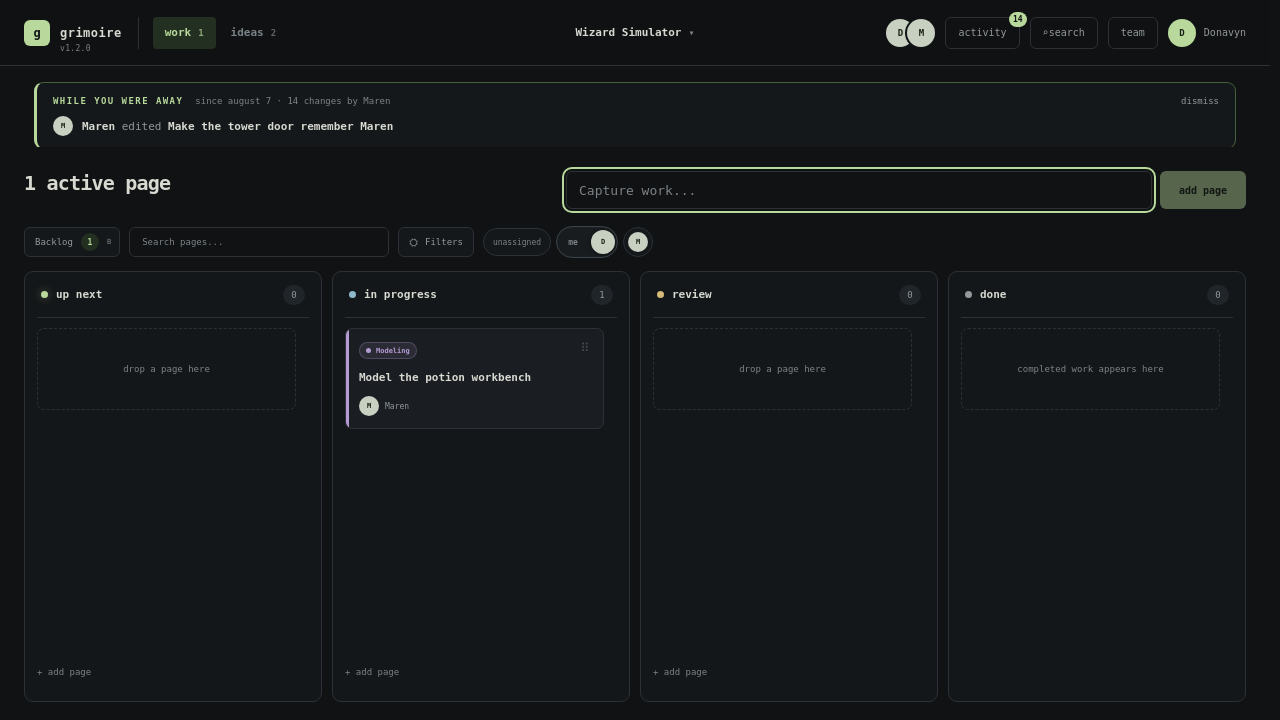
it: while you were away - quiet signals › shows the owner how much happened and clears the badge once the history is opened
The width and height of the screenshot is (1280, 720).
Expected: the picture named "14 changes since your last visit" reads "14", left=1013, top=14, right=1023, bottom=24
Click the button "activity 14".
click(982, 32)  # box left=945, top=16, right=1020, bottom=48
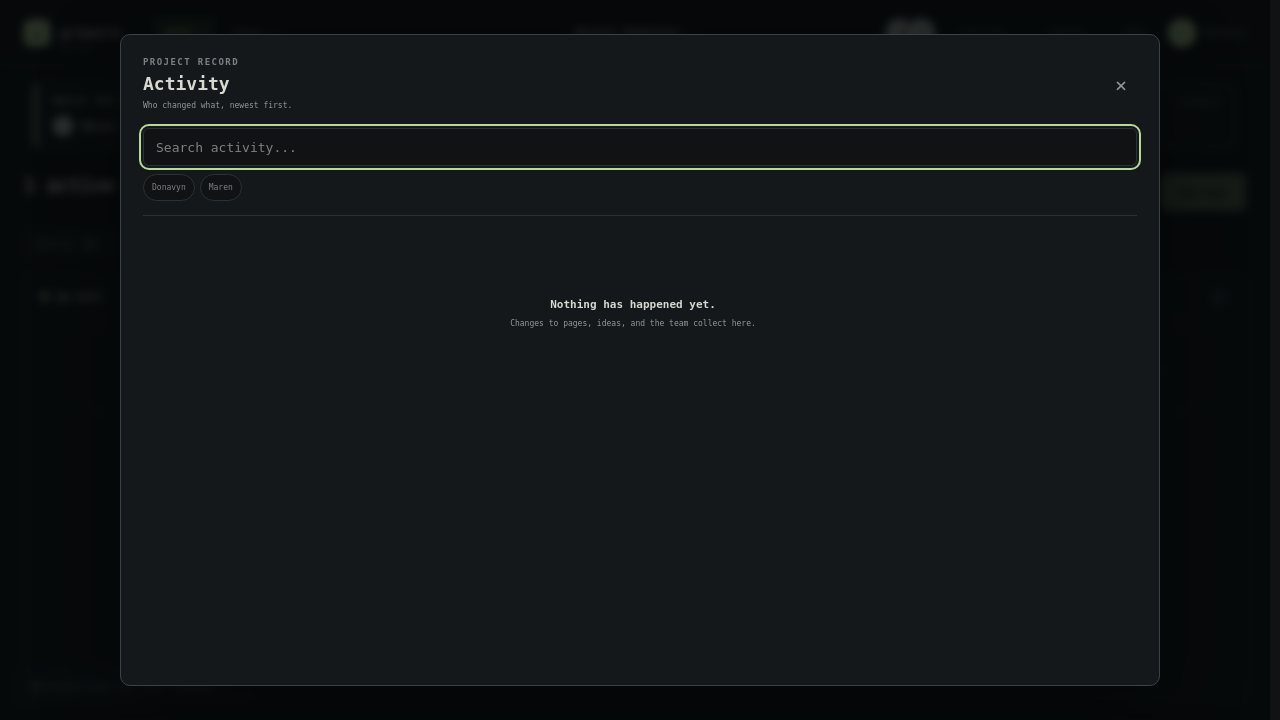
Now the dialog "Activity" is shown
